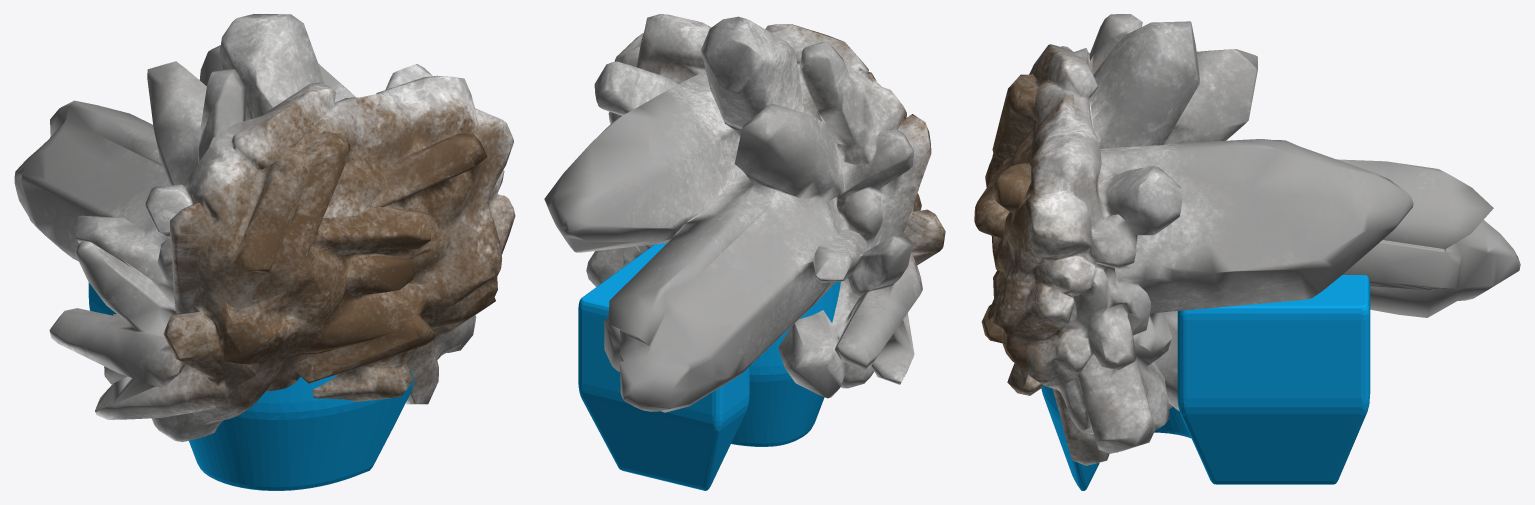
Rendered from astn5.fbx.
3 views of the same model, side by side, from view 1: azimuth 30°, elevation 25°; view 2: azimuth 150°, elevation 25°; view 3: azimuth 270°, elevation 25° (orthographic). The views are drawn at different scales.
Visible parts, largest first — view 1: node_id100, node_id40; view 2: node_id100, node_id40; view 3: node_id100, node_id40.
Boxes of the visible parts, <box> form: node_id100: <box>14,14,515,442</box>; node_id40: <box>88,282,414,490</box>; node_id100: <box>544,14,945,412</box>; node_id40: <box>578,243,840,490</box>; node_id100: <box>974,14,1520,465</box>; node_id40: <box>1041,275,1370,490</box>.
Size of the model in its own units: 51.26 by 57.63 by 64.8.
2 materials, 2 textured.
